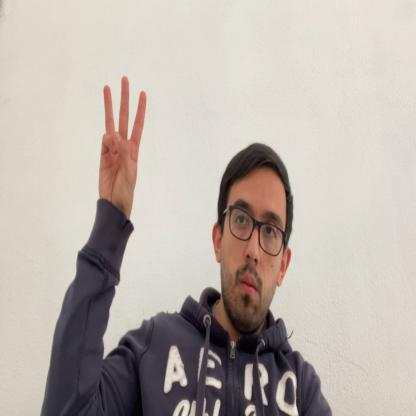W: (98, 74, 148, 210)
